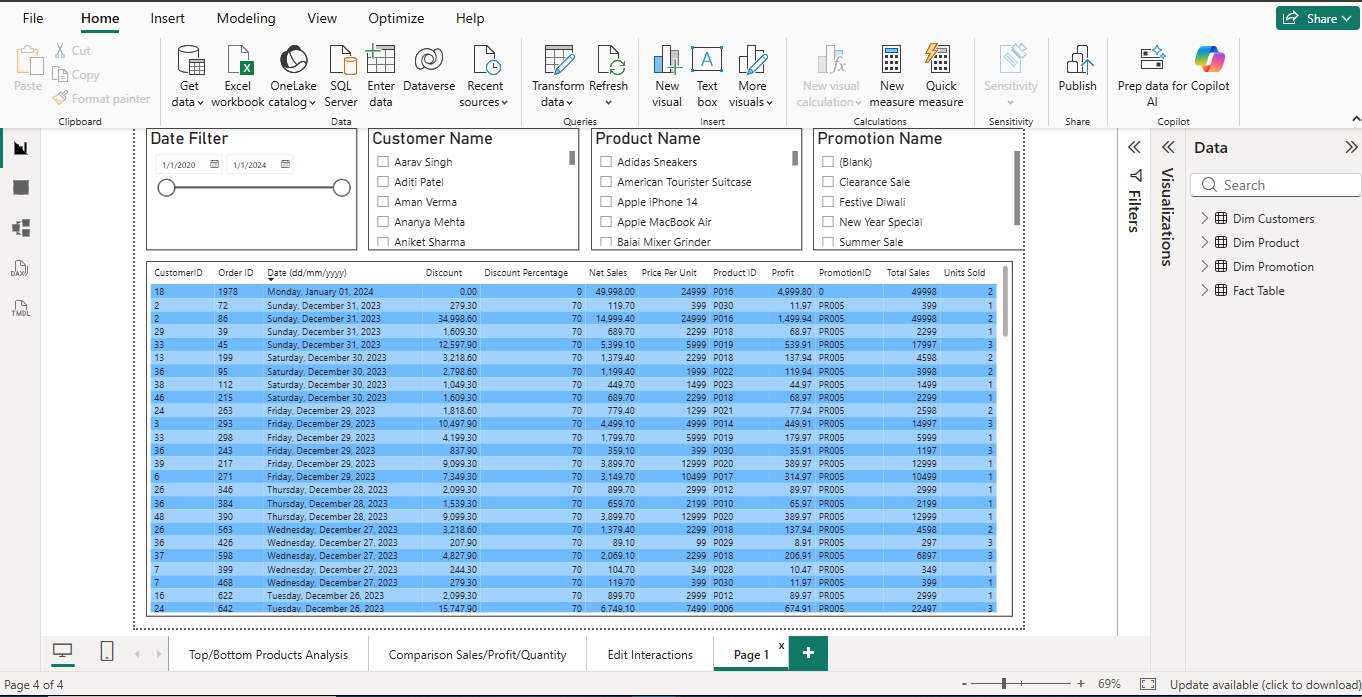

What the dashboard file says about the page in this screenshot:
{"tool":"powerbi","page":{"name":"Data_Explorer","canvas":[1280,720],"ordinal":3},"visuals":[{"type":"tableEx","fields":{"Values":["Fact Table.CustomerID","Fact Table.Order ID","Fact Table.Date (dd/mm/yyyy)","Fact Table.Discount","Fact Table.Discount Percentage","Fact Table.Net Sales","Fact Table.Price Per Unit","Fact Table.Product ID","Fact Table.Profit","Fact Table.PromotionID","Fact Table.Total Sales","Fact Table.Units Sold"]},"box":[16,192,1248,512],"z":0},{"type":"slicer","title":"Date Filter","fields":{"Values":["Fact Table.Date (dd/mm/yyyy)"]},"box":[16,0,304,176],"z":1000},{"type":"slicer","title":"Customer Name","fields":{"Values":["Dim Customers.Customer Name"]},"box":[336,0,304,176],"z":2000},{"type":"slicer","title":"Product Name","fields":{"Values":["Dim Product.Product Name"]},"box":[656,0,304,176],"z":3000},{"type":"slicer","title":"Promotion Name","fields":{"Values":["Dim Promotion.Promotion Name"]},"box":[976,0,304,176],"z":4000}]}

Visuals, with their boxes on the page's 1280x720 design canvas (x1, y1, x2, y2). These are canvas units, not pixel positions in the 1362x697 screenshot, which may show the page scaled, cropped or inside an application window:
tableEx - Fact Table.CustomerID x Fact Table.Order ID: [x1=16, y1=192, x2=1264, y2=704]
"Date Filter" slicer: [x1=16, y1=0, x2=320, y2=176]
"Customer Name" slicer: [x1=336, y1=0, x2=640, y2=176]
"Product Name" slicer: [x1=656, y1=0, x2=960, y2=176]
"Promotion Name" slicer: [x1=976, y1=0, x2=1280, y2=176]
